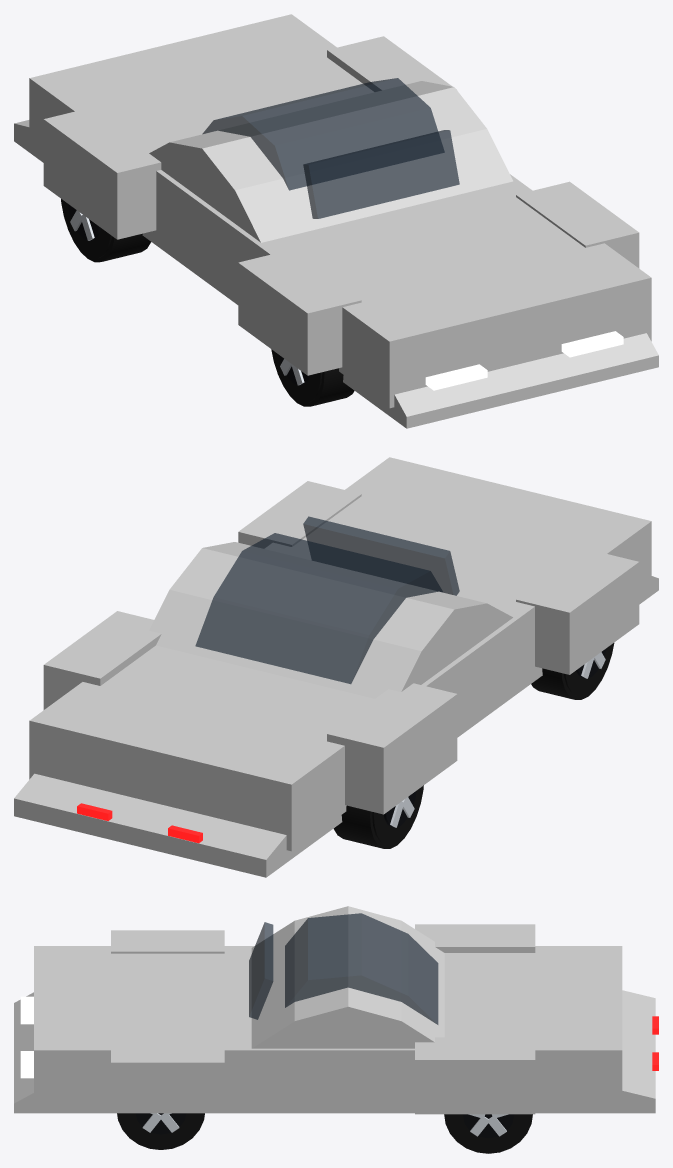
Rendered from mcroar-great-white.glb.
3 views of the same model, one above another, from view 1: azimuth 30°, elevation 25°; view 2: azimuth 150°, elevation 25°; view 3: azimuth 270°, elevation 25° (orthographic). The views are drawn at different scales.
Visible parts, largest first — view 1: chassis, glass, wheel-back-left, wheel-front-left; view 2: chassis, glass, wheel-back-left, wheel-front-left; view 3: chassis, wheel-back-right, wheel-front-right, glass.
Part boxes in pixels (box(x1,y1,x2,y2)): chassis: box(14, 14, 658, 428); glass: box(303, 130, 459, 218); wheel-back-left: box(61, 199, 150, 262); wheel-front-left: box(271, 349, 354, 406); chassis: box(14, 457, 658, 877); glass: box(303, 516, 459, 595); wheel-back-left: box(333, 785, 423, 848); wheel-front-left: box(531, 643, 614, 699); chassis: box(14, 906, 658, 1114); wheel-back-right: box(444, 1114, 532, 1153); wheel-front-right: box(117, 1113, 204, 1149); glass: box(249, 922, 273, 1019).
Bounding box in the file's own units: 2.4 × 1.22 × 4.83.
